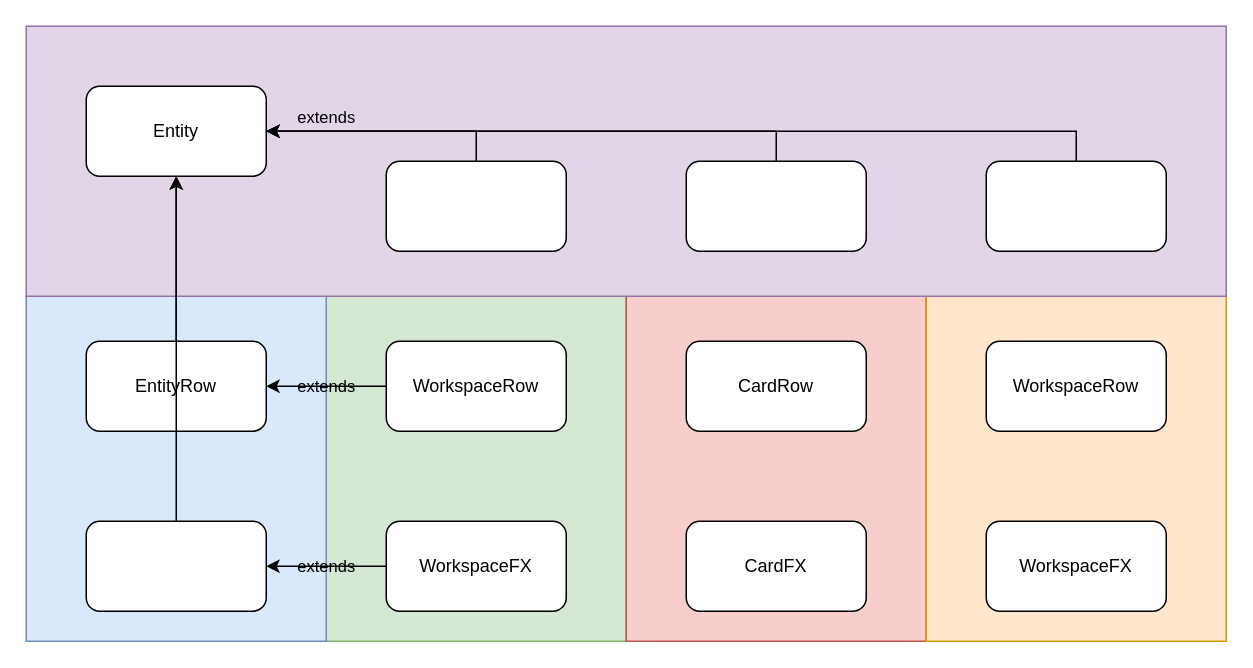
Some shapes in this 1253 by 668 pixel diagram are drawn without their labels. The shapes that lost their labels are listed below. From the top down, each one's centre as x and y in pixels, then its label:
the point at 475,205: Workspace
the point at 775,205: Card
the point at 1075,205: CardFace
the point at 175,565: EntityFX
